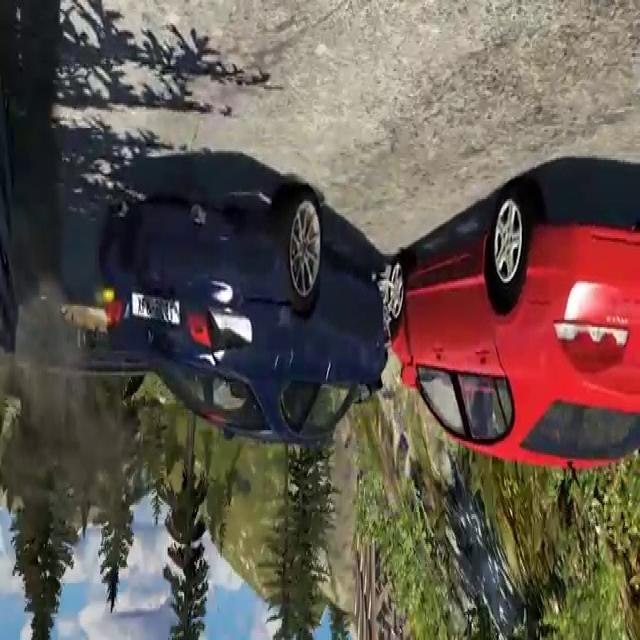moderate: (89, 189, 640, 477)
